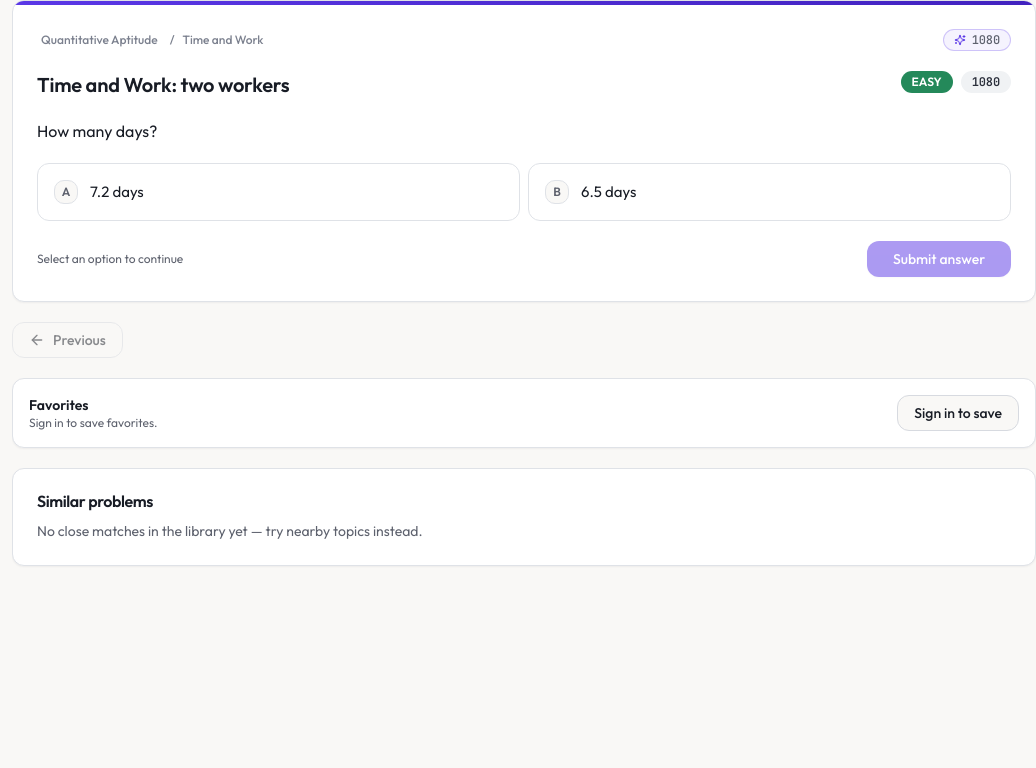
Scenario: PracticeView › enables submission after selecting an option
Click the text "7.2 days".
click(117, 192)  # box [90,182,144,201]
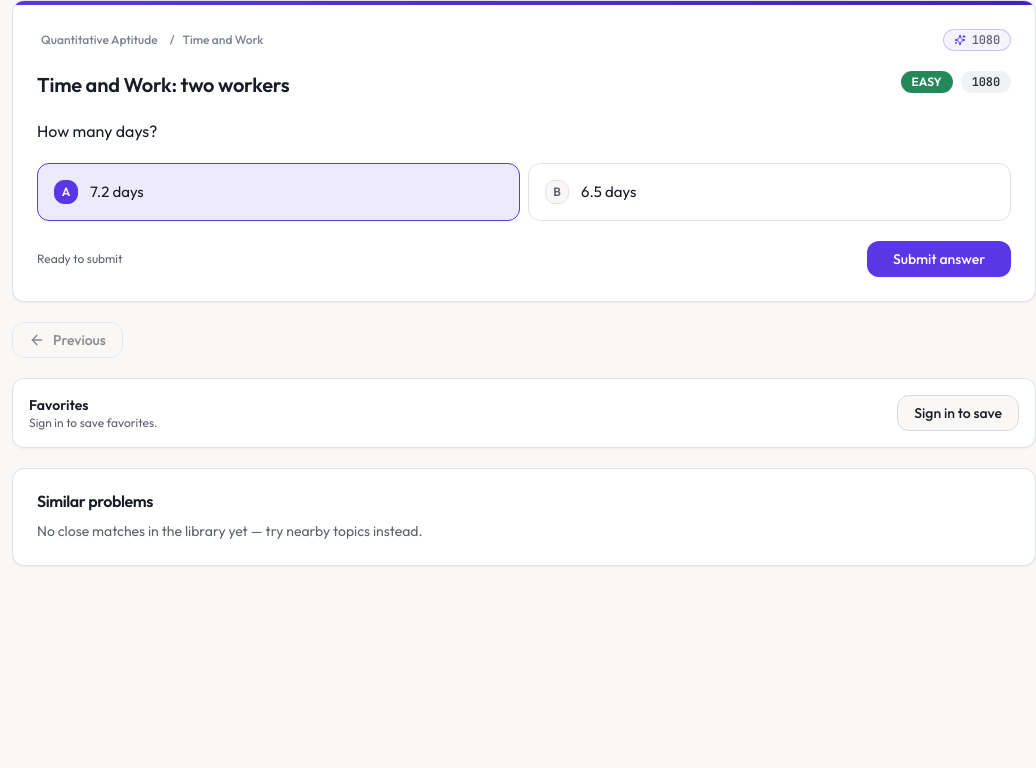
Now the text "Ready to submit" is shown, box [37,251,122,267]
Now the button "Submit answer" is enabled, box [867,241,1011,277]
